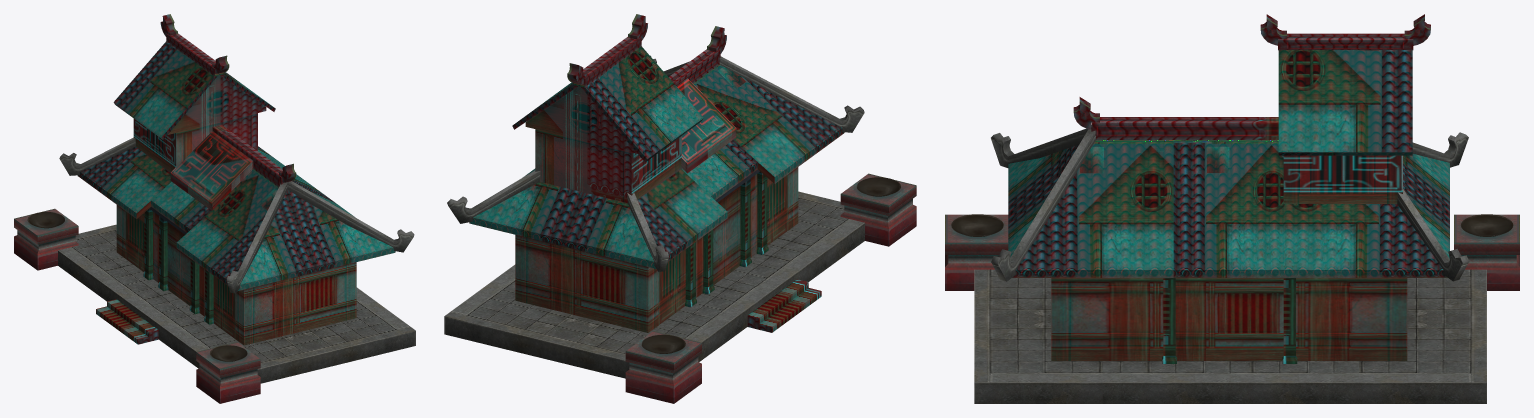
The model's file is Hourse02.FBX.
3 views of the same model, side by side, from view 1: azimuth 30°, elevation 25°; view 2: azimuth 150°, elevation 25°; view 3: azimuth 270°, elevation 25° (orthographic). The views are drawn at different scales.
Visible parts, largest first — view 1: Box01, Sphere03, Object03, Object05; view 2: Box01, Sphere03, Object03, Object05; view 3: Box01, Sphere03, Object03, Object05.
Part boxes in pixels (x1,y1,x2,y2): Box01: (14,14,395,403); Sphere03: (27,137,415,383); Object03: (113,41,275,139); Object05: (166,33,223,76); Box01: (469,14,916,403); Sphere03: (444,55,900,378); Object03: (512,46,703,162); Object05: (574,37,641,87); Box01: (945,14,1519,363); Sphere03: (951,125,1513,403); Object03: (1278,50,1412,155); Object05: (1278,33,1413,50).
Size of the model in its own units: 105 by 110 by 174.
